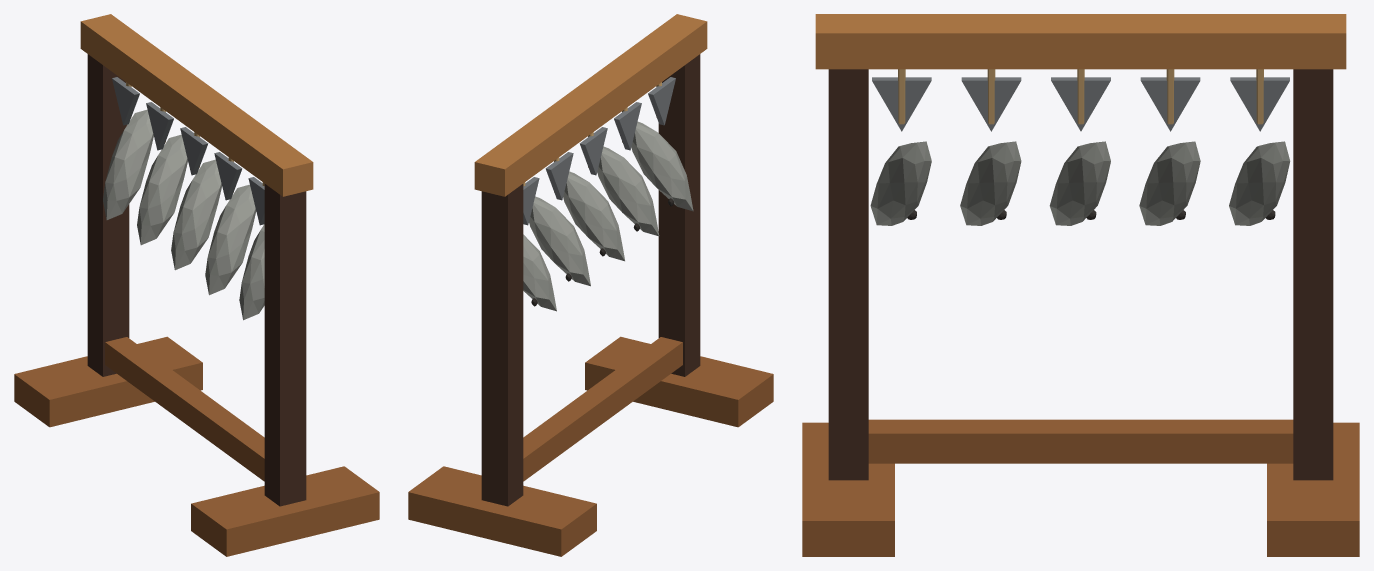
Rendered from 103_hanging_fish_rack.fbx.
3 views of the same model, side by side, from view 1: azimuth 30°, elevation 25°; view 2: azimuth 150°, elevation 25°; view 3: azimuth 270°, elevation 25° (orthographic). The views are drawn at different scales.
Visible parts, largest first — view 1: 103_hanging_fish_rack; view 2: 103_hanging_fish_rack; view 3: 103_hanging_fish_rack.
Part boxes in pixels (left/top/right/bottom): 103_hanging_fish_rack: left=14, top=14, right=379, bottom=556; 103_hanging_fish_rack: left=408, top=14, right=773, bottom=556; 103_hanging_fish_rack: left=802, top=14, right=1359, bottom=556.
Bounding box in the file's own units: 0.7 × 1.61 × 1.68.
Materials: 1 (1 with a texture image).
